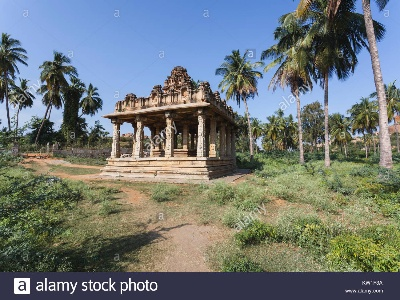mandapa: (101, 92, 251, 166)
